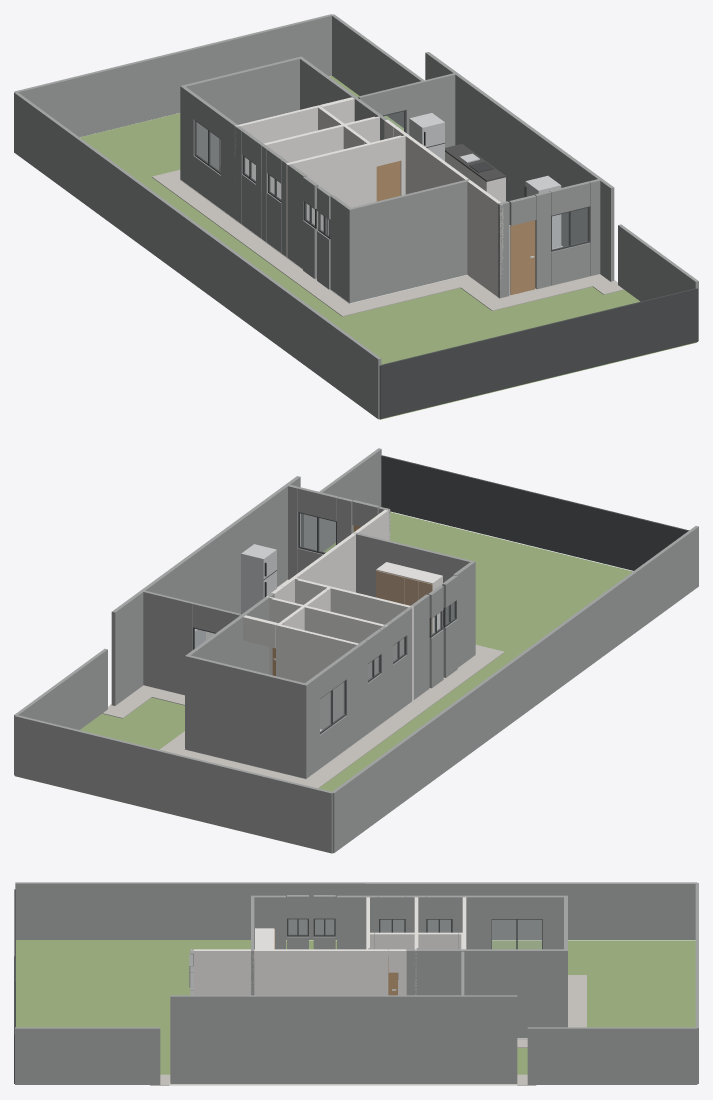
Rendered from casa.glb.
3 views of the same model, one above another, from view 1: azimuth 30°, elevation 25°; view 2: azimuth 150°, elevation 25°; view 3: azimuth 270°, elevation 25° (orthographic). The views are drawn at different scales.
Visible parts, largest first — view 1: fachada, esquadria, grama, parede, concreto, vidro, inox, door1_swing__porta, door3_swing__porta, armario, granito, piso; view 2: fachada, grama, esquadria, parede, concreto, vidro, inox, madeira, armario; view 3: fachada, grama, parede, vidro, concreto, esquadria, piso, armario.
Part boxes in pixels (x1,y1,x2,y2): fachada: [14, 14, 698, 419]; esquadria: [194, 110, 697, 419]; grama: [80, 76, 696, 419]; parede: [234, 97, 503, 296]; concreto: [152, 170, 624, 316]; vidro: [196, 111, 587, 249]; inox: [409, 113, 561, 248]; door1_swing__porta: [510, 220, 535, 295]; door3_swing__porta: [376, 161, 400, 201]; armario: [445, 152, 505, 202]; granito: [445, 144, 505, 181]; piso: [180, 179, 615, 303]; fachada: [14, 448, 698, 853]; grama: [17, 512, 632, 853]; esquadria: [192, 455, 688, 734]; parede: [243, 508, 413, 729]; concreto: [102, 644, 504, 788]; vidro: [194, 513, 454, 731]; inox: [195, 544, 276, 648]; madeira: [376, 570, 432, 634]; armario: [206, 562, 442, 640]; fachada: [15, 882, 698, 1084]; grama: [16, 940, 695, 1074]; parede: [191, 897, 466, 995]; vidro: [288, 919, 541, 948]; concreto: [150, 975, 586, 1085]; esquadria: [14, 889, 542, 1083]; piso: [169, 1038, 527, 1085]; armario: [255, 928, 398, 994].
Size of the model in its own units: 10.07 by 2.83 by 19.9.
